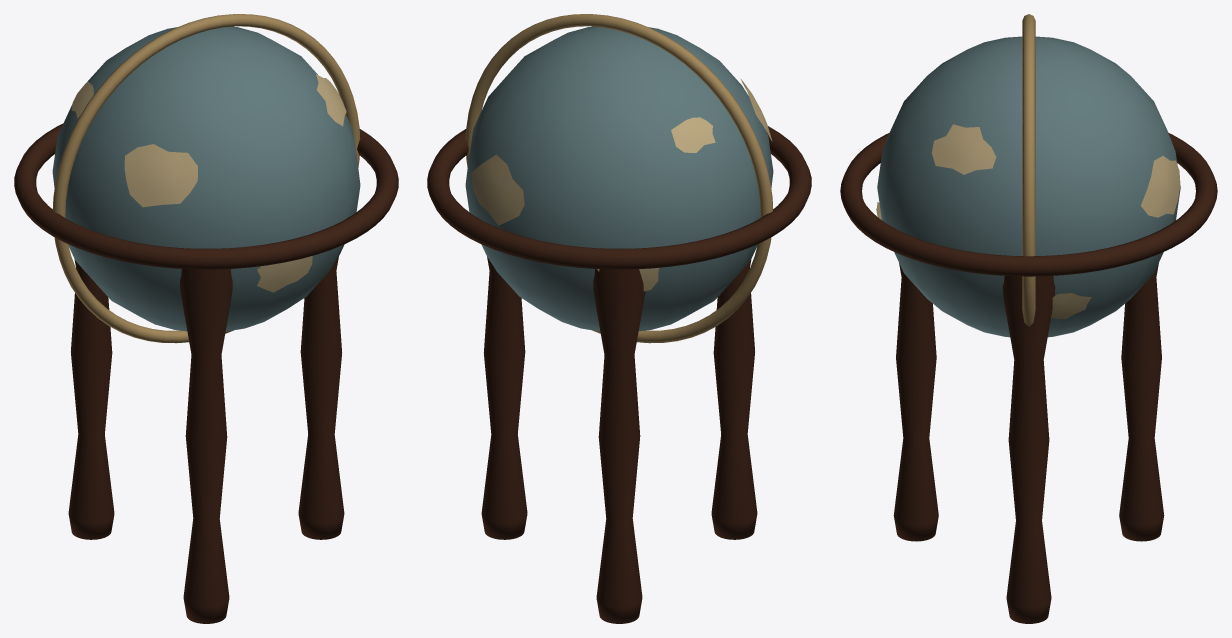
File: Globe_Stand.fbx
3 views of the same model, side by side, from view 1: azimuth 30°, elevation 25°; view 2: azimuth 150°, elevation 25°; view 3: azimuth 270°, elevation 25° (orthographic). The views are drawn at different scales.
Visible parts, largest first — view 1: Terrestrial sphere.001, Turned leg.040, Equatorial support.001, Turned leg.038, Turned leg.039, Globe meridian.001, Invented continent.007, Invented continent.008, Invented continent.009; view 2: Terrestrial sphere.001, Turned leg.039, Equatorial support.001, Turned leg.038, Turned leg.040, Globe meridian.001, Invented continent.011, Invented continent.013; view 3: Terrestrial sphere.001, Turned leg.038, Equatorial support.001, Turned leg.039, Turned leg.040, Globe meridian.001, Invented continent.009, Invented continent.011, Invented continent.010.
Part boxes in pixels (<box>): Terrestrial sphere.001: <box>52,26,360,331</box>; Turned leg.040: <box>179,269,232,623</box>; Equatorial support.001: <box>14,123,398,269</box>; Turned leg.038: <box>298,256,344,539</box>; Turned leg.039: <box>68,259,114,539</box>; Globe meridian.001: <box>52,14,360,343</box>; Invented continent.007: <box>124,144,197,207</box>; Invented continent.008: <box>257,256,312,292</box>; Invented continent.009: <box>316,74,346,126</box>; Terrestrial sphere.001: <box>465,26,773,331</box>; Turned leg.039: <box>593,269,645,623</box>; Equatorial support.001: <box>427,126,811,269</box>; Turned leg.038: <box>481,256,527,539</box>; Turned leg.040: <box>711,259,757,539</box>; Globe meridian.001: <box>465,14,773,343</box>; Invented continent.011: <box>471,154,524,225</box>; Invented continent.013: <box>671,117,715,152</box>; Terrestrial sphere.001: <box>877,36,1180,337</box>; Turned leg.038: <box>1002,276,1055,623</box>; Equatorial support.001: <box>840,133,1217,276</box>; Turned leg.039: <box>1119,263,1164,541</box>; Turned leg.040: <box>893,263,938,541</box>; Globe meridian.001: <box>1022,14,1035,326</box>; Invented continent.009: <box>932,124,996,174</box>; Invented continent.011: <box>1140,156,1180,217</box>; Invented continent.010: <box>1051,293,1091,319</box>.
Size of the model in its own units: 0.87 by 1.35 by 0.87.
